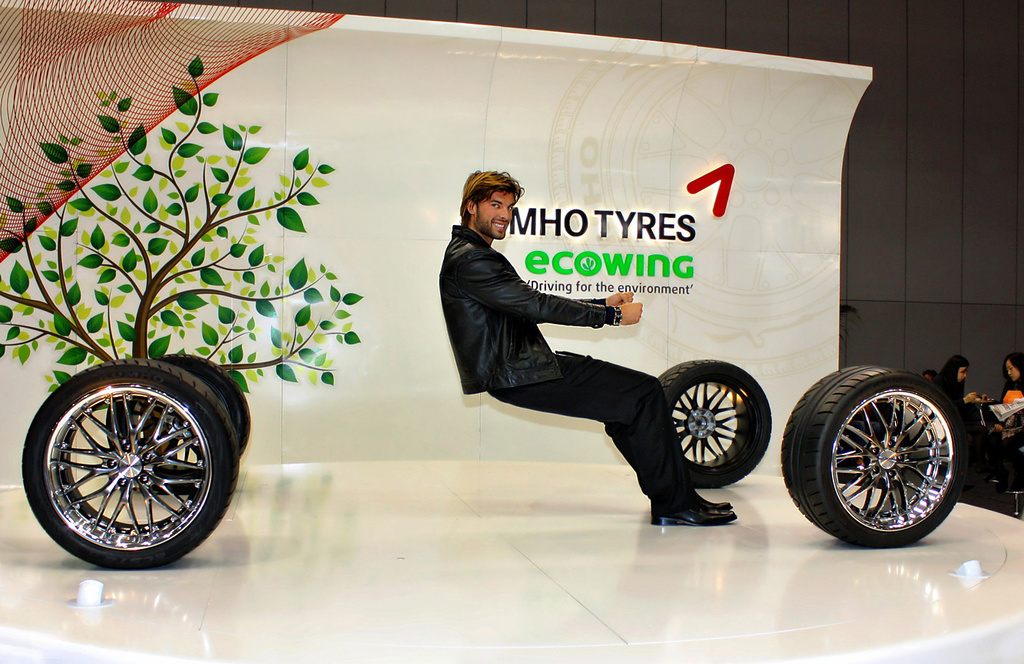Footwear: (656, 483, 736, 539)
